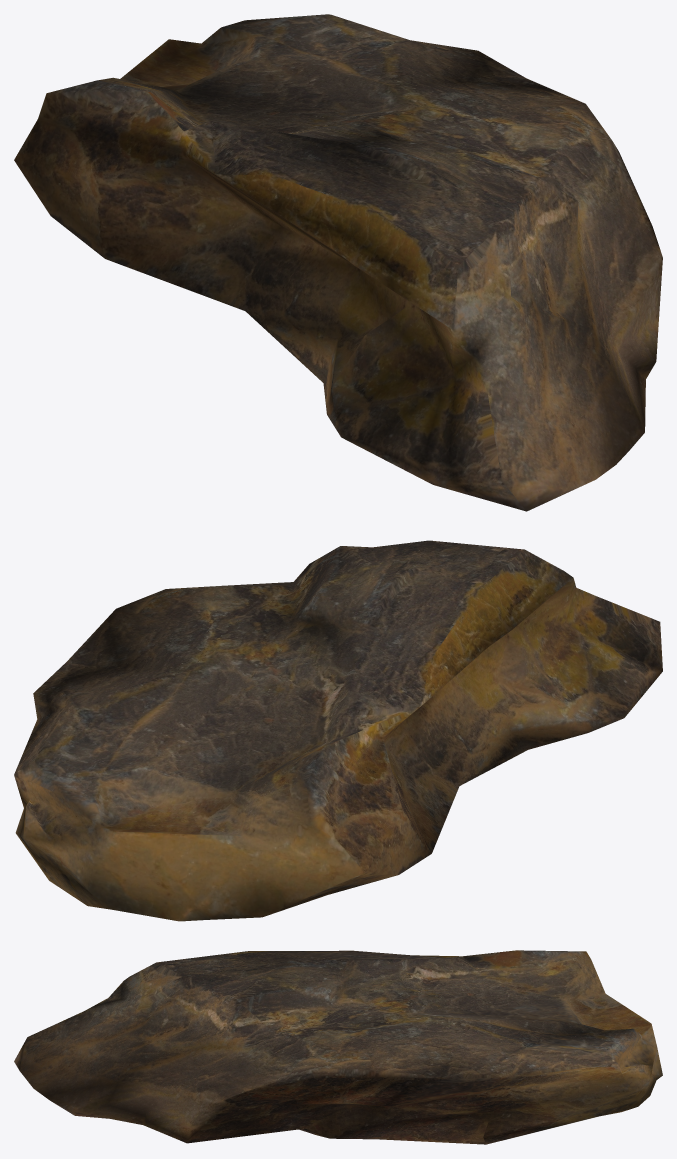
File: rock_09-lod.glb
3 renders of one model, top to bottom at view 1: azimuth 30°, elevation 25°; view 2: azimuth 150°, elevation 25°; view 3: azimuth 270°, elevation 25°, orthographic. The views are drawn at different scales.
Parts seen in each view (by area): view 1: rock_09_LOD0; view 2: rock_09_LOD0; view 3: rock_09_LOD0.
Boxes of the visible parts, <box> form: rock_09_LOD0: <box>14,14,662,511</box>; rock_09_LOD0: <box>14,540,662,921</box>; rock_09_LOD0: <box>14,950,662,1144</box>.
Bounding box in the file's own units: 0.0738 × 0.0326 × 0.1442.
1 material, 1 textured.
